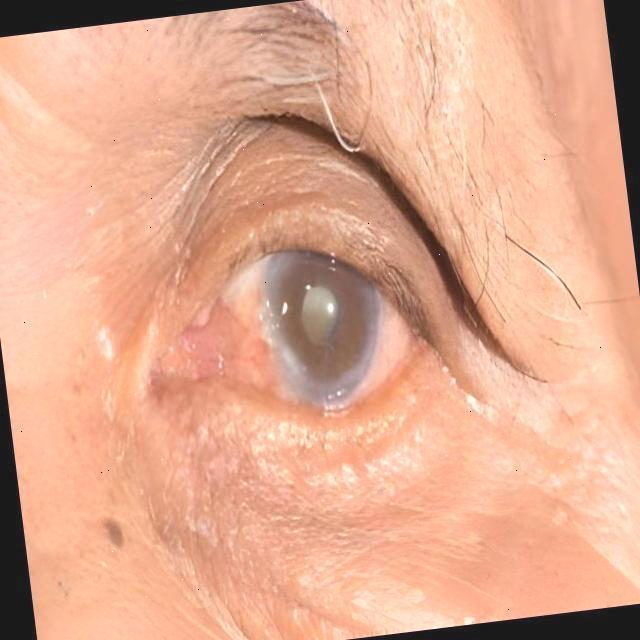Pterygium: (152, 286, 282, 414)
